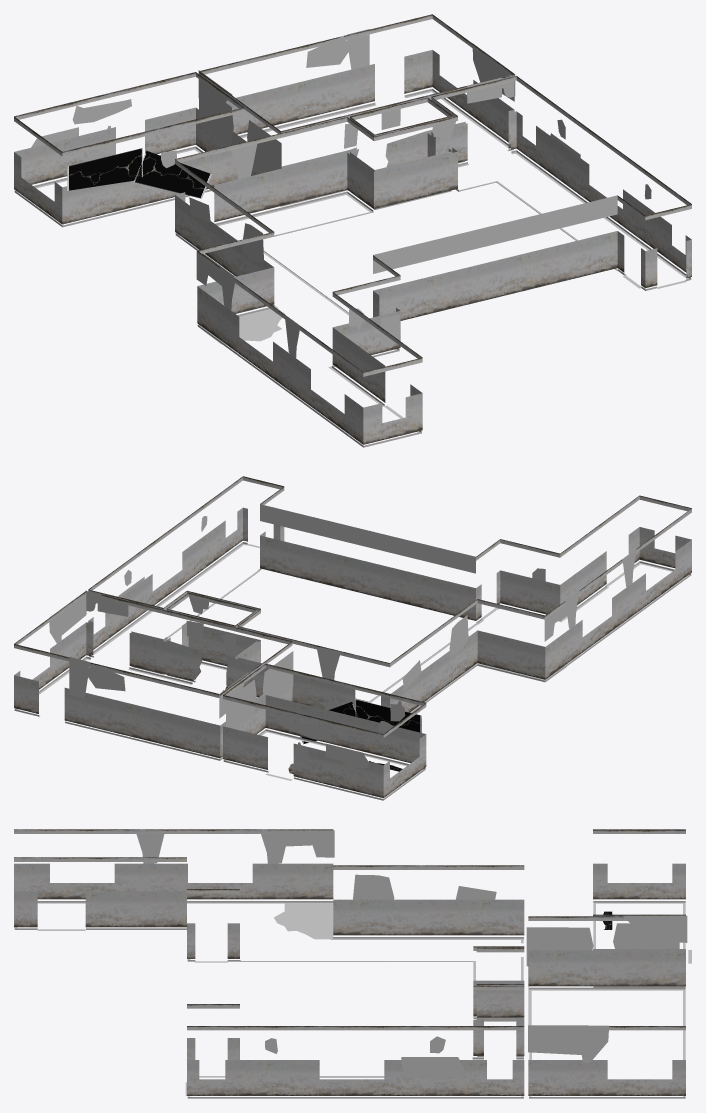
The model's file is A2_H1_Decals.FBX.
3 renders of one model, top to bottom at view 1: azimuth 30°, elevation 25°; view 2: azimuth 150°, elevation 25°; view 3: azimuth 270°, elevation 25°, orthographic. The views are drawn at different scales.
Visible parts, largest first — view 1: A2_H1_Decals; view 2: A2_H1_Decals; view 3: A2_H1_Decals.
Boxes of the visible parts, x1=… form: A2_H1_Decals: x1=14, y1=14, x2=691, y2=447; A2_H1_Decals: x1=14, y1=476, x2=691, y2=800; A2_H1_Decals: x1=14, y1=829, x2=691, y2=1098.
Bounding box in the file's own units: 1805 × 336 × 2624.
